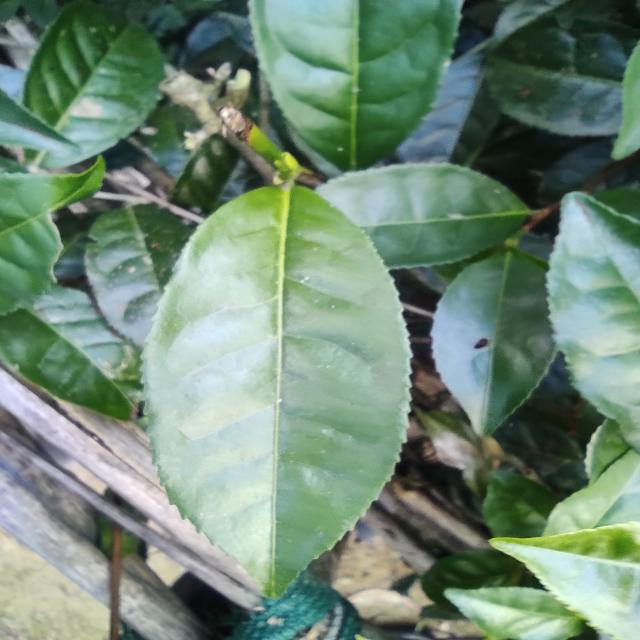Category D(7+ days, Not for Tea): (117, 162, 448, 611)
